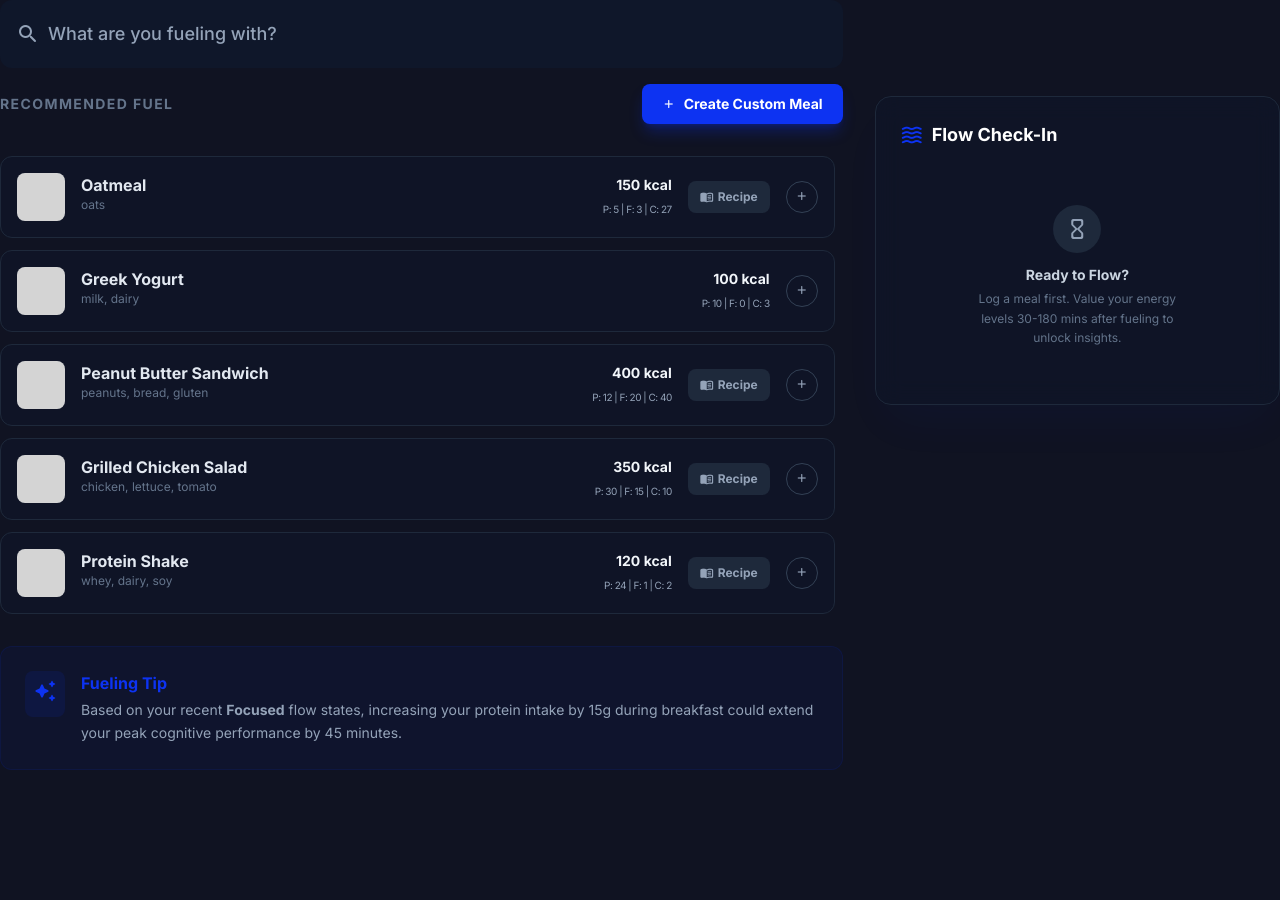
FoodLogger Component › Interactions › opens create meal modal when clicking "Create Custom Meal" (Gold/Premium)
What coordinates should you click on to do the following:
click the button "Create Custom Meal"
I would click on:
 (742, 104)
Its box is [642,84,843,124].
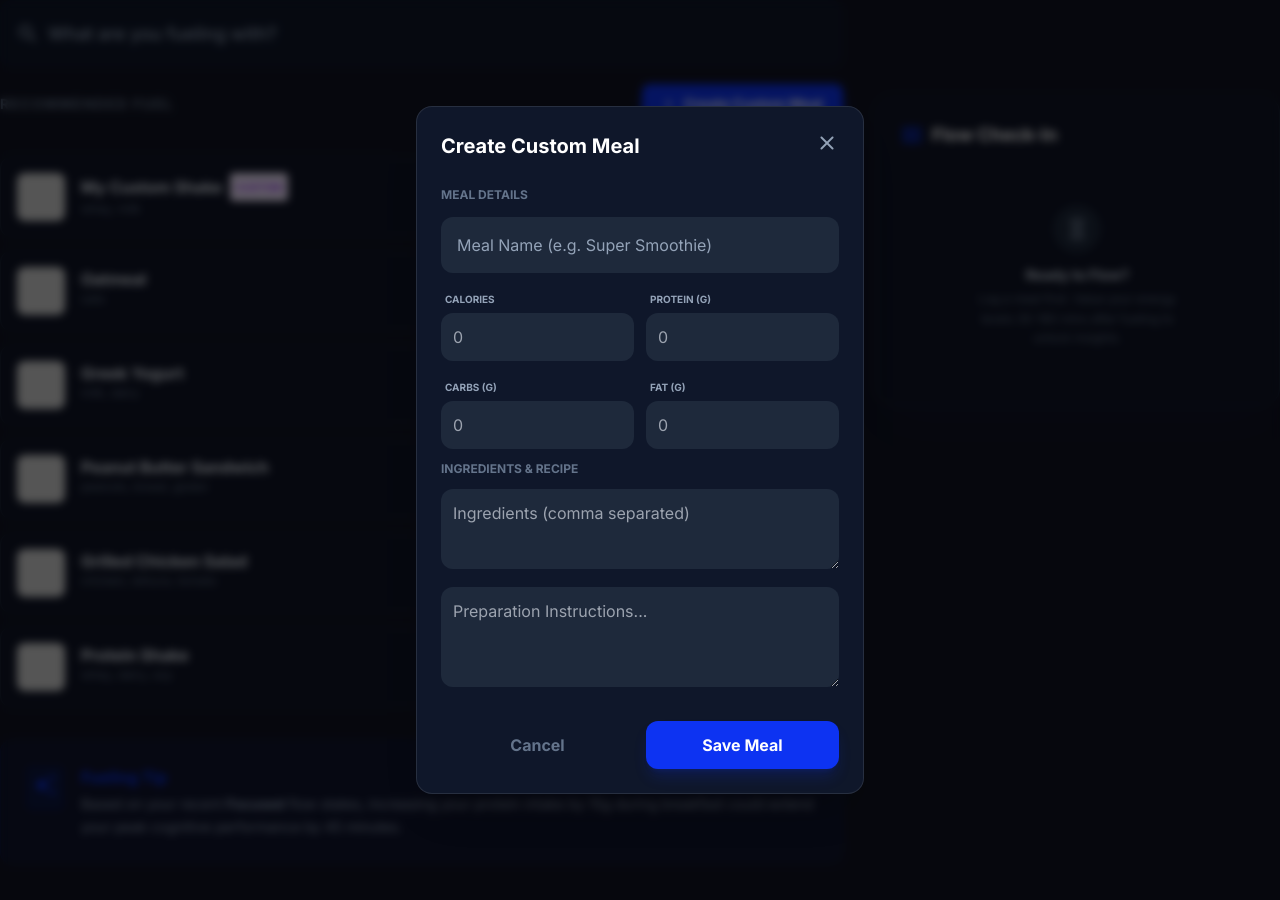
Expected: the text "Meal Details" is shown, [441,187,528,202]
